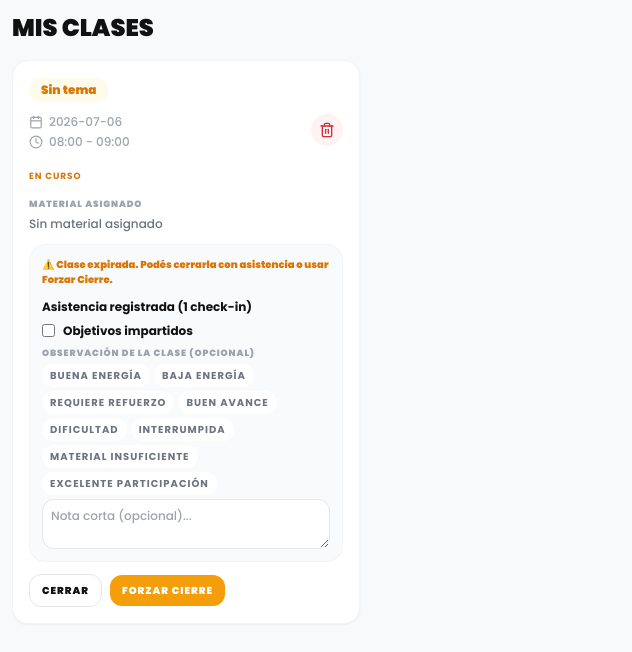
Test: MisClasesView › muestra el mensaje de conflicto de concurrencia cuando otro usuario grabo primero
The width and height of the screenshot is (632, 652).
Expected: the text "En curso" is shown, 29,170 -> 81,182
Expected: the text "Asistencia registrada (1 check-in)" is shown, 42,298 -> 252,314
Click the checkbox labelled "Objetivos impartidos": (48, 330) 42,324 -> 55,337
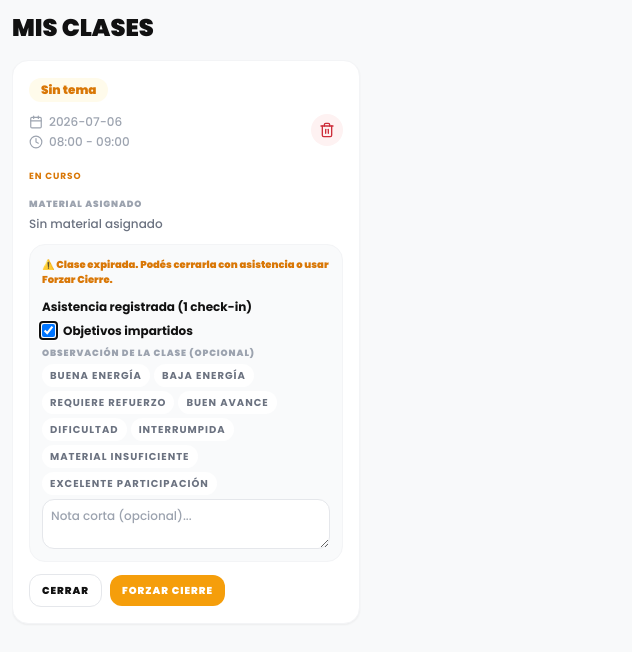
Click the button "Cerrar": (65, 590) 29,574 -> 102,607
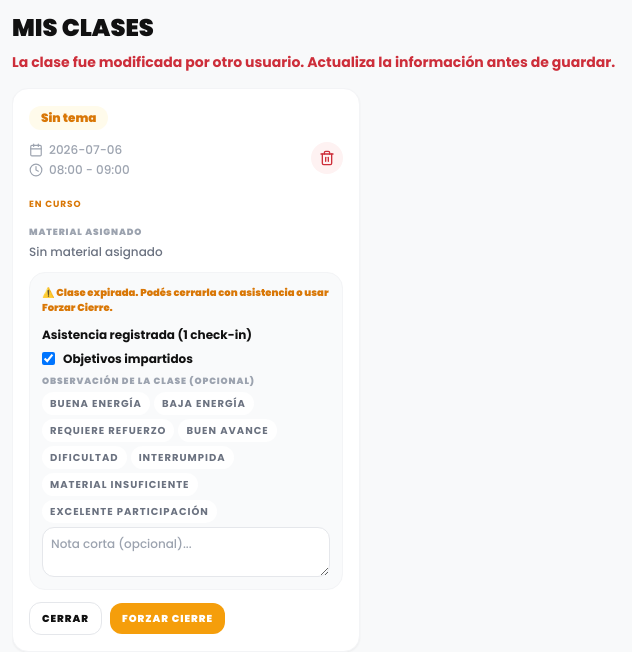
Expected: the text "2026-07-06" is shown, 29,142 -> 130,158
Now the text "La clase fue modificada por otro usuario" is shown, box 12,52 -> 615,72
